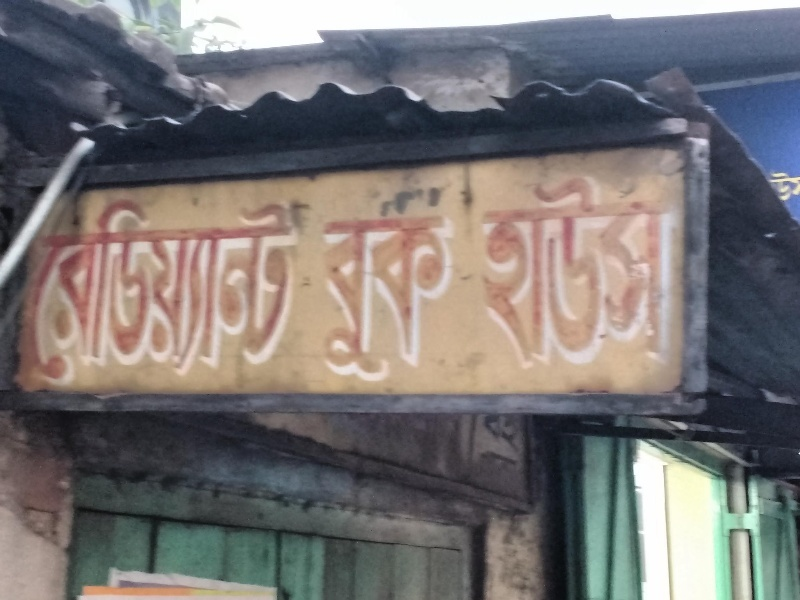text: (481, 161, 496, 373), (497, 161, 512, 373), (513, 161, 528, 373), (529, 161, 544, 373), (545, 161, 560, 373), (561, 161, 576, 373), (577, 161, 592, 373), (593, 161, 608, 373), (609, 161, 624, 373), (625, 161, 640, 373), (641, 161, 656, 373), (657, 161, 672, 373), (65, 177, 80, 388), (81, 177, 96, 388), (97, 177, 112, 388), (113, 177, 128, 388), (129, 177, 144, 388), (145, 177, 160, 388), (161, 177, 176, 388), (177, 177, 192, 388), (193, 177, 208, 388), (209, 177, 224, 388), (225, 177, 240, 388), (241, 177, 256, 388), (257, 177, 272, 388), (273, 177, 288, 388), (289, 177, 304, 388), (50, 177, 64, 388), (337, 202, 352, 388), (353, 202, 368, 388), (369, 202, 384, 388), (385, 202, 400, 388), (401, 202, 416, 388), (417, 202, 432, 388), (433, 202, 448, 388), (449, 202, 463, 388), (323, 202, 336, 388), (472, 161, 480, 373), (673, 161, 681, 373), (305, 177, 312, 388), (497, 409, 512, 455), (483, 409, 496, 455), (769, 171, 784, 204), (785, 171, 800, 204), (513, 409, 523, 455), (762, 171, 768, 204)
